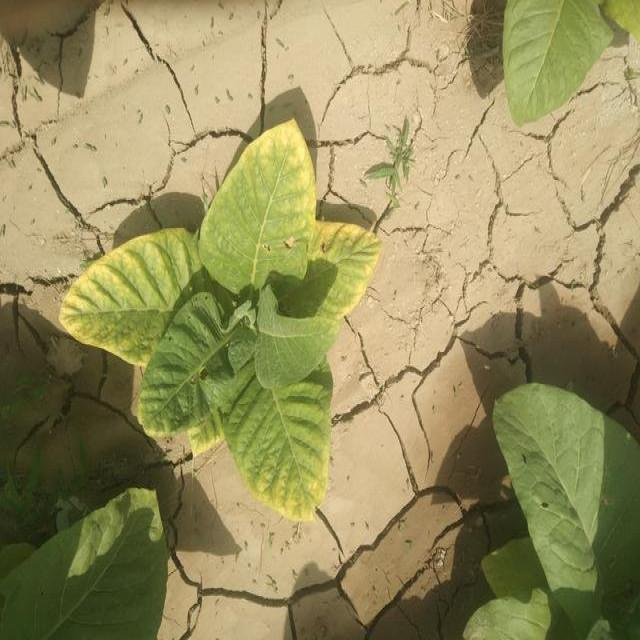crop: (62, 127, 380, 521), (472, 377, 639, 640), (1, 489, 173, 640), (496, 2, 638, 128)
